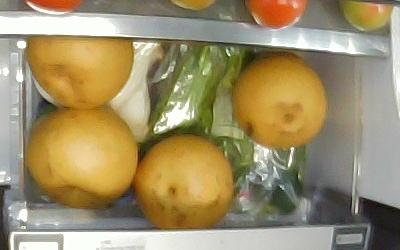pear: (27, 107, 138, 207), (135, 135, 234, 229), (234, 52, 328, 149), (27, 36, 134, 108)
